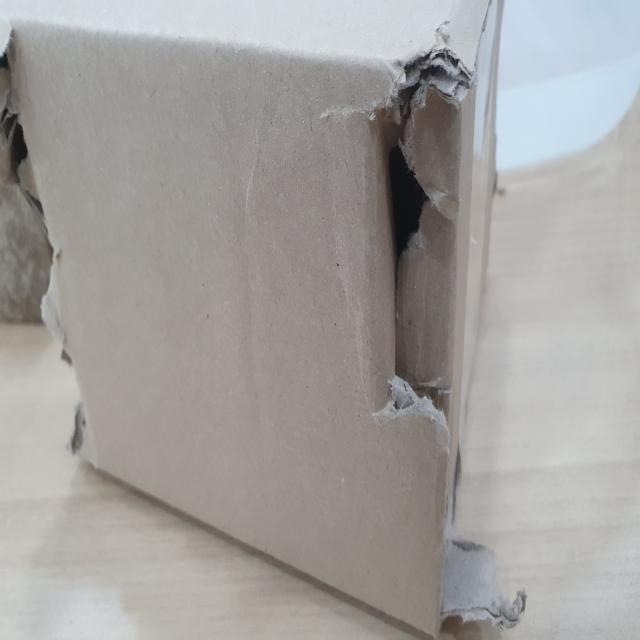hole: (373, 20, 474, 457)
